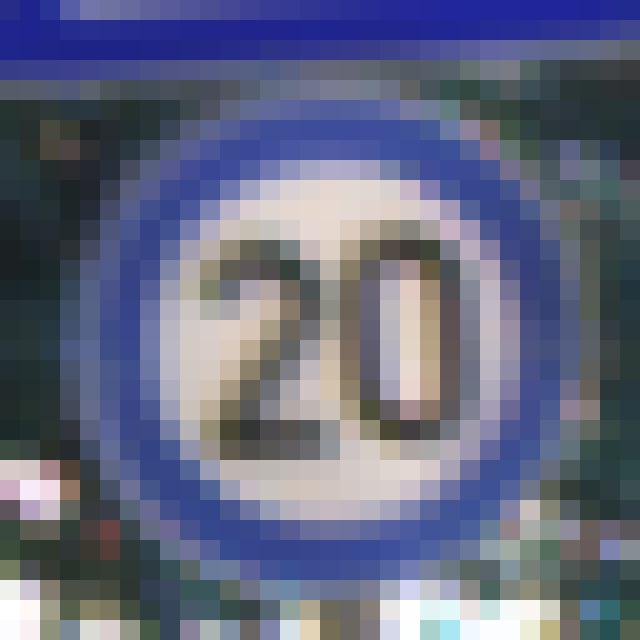SPEED LIMIT 20: (80, 101, 572, 574)
